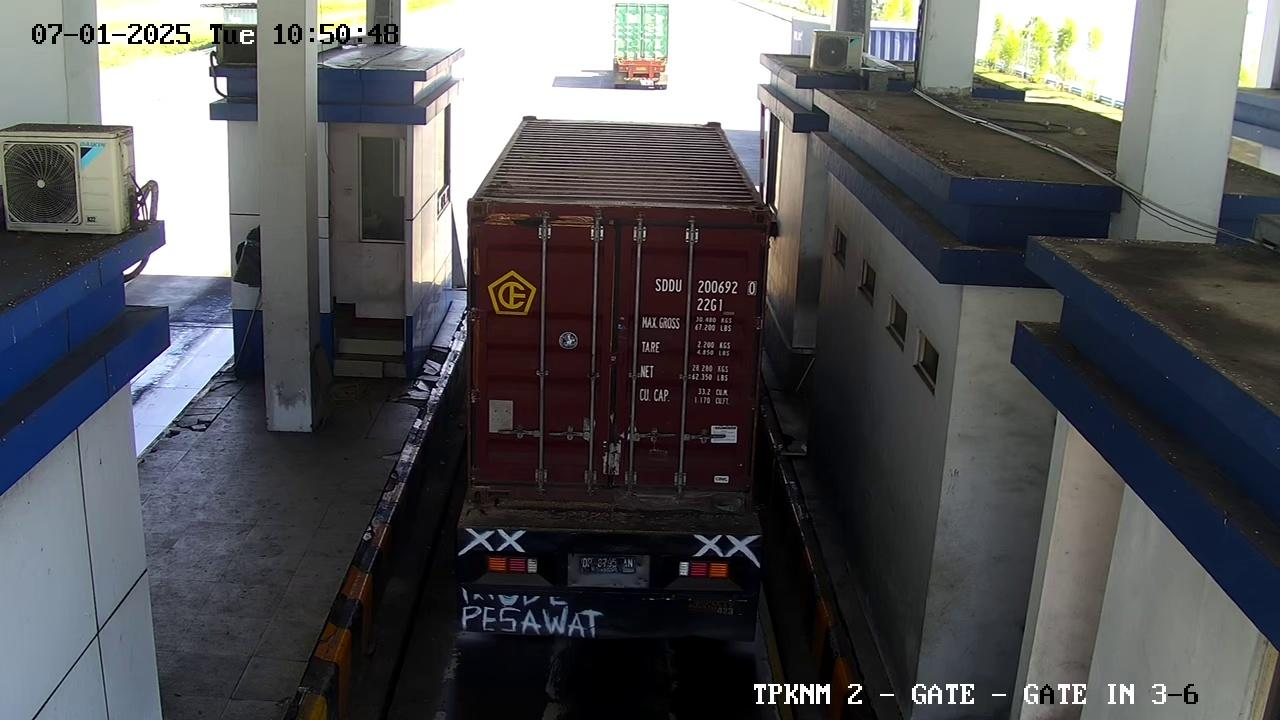Container_ID: (625, 265, 761, 300)
plate_number: (566, 548, 645, 582)
